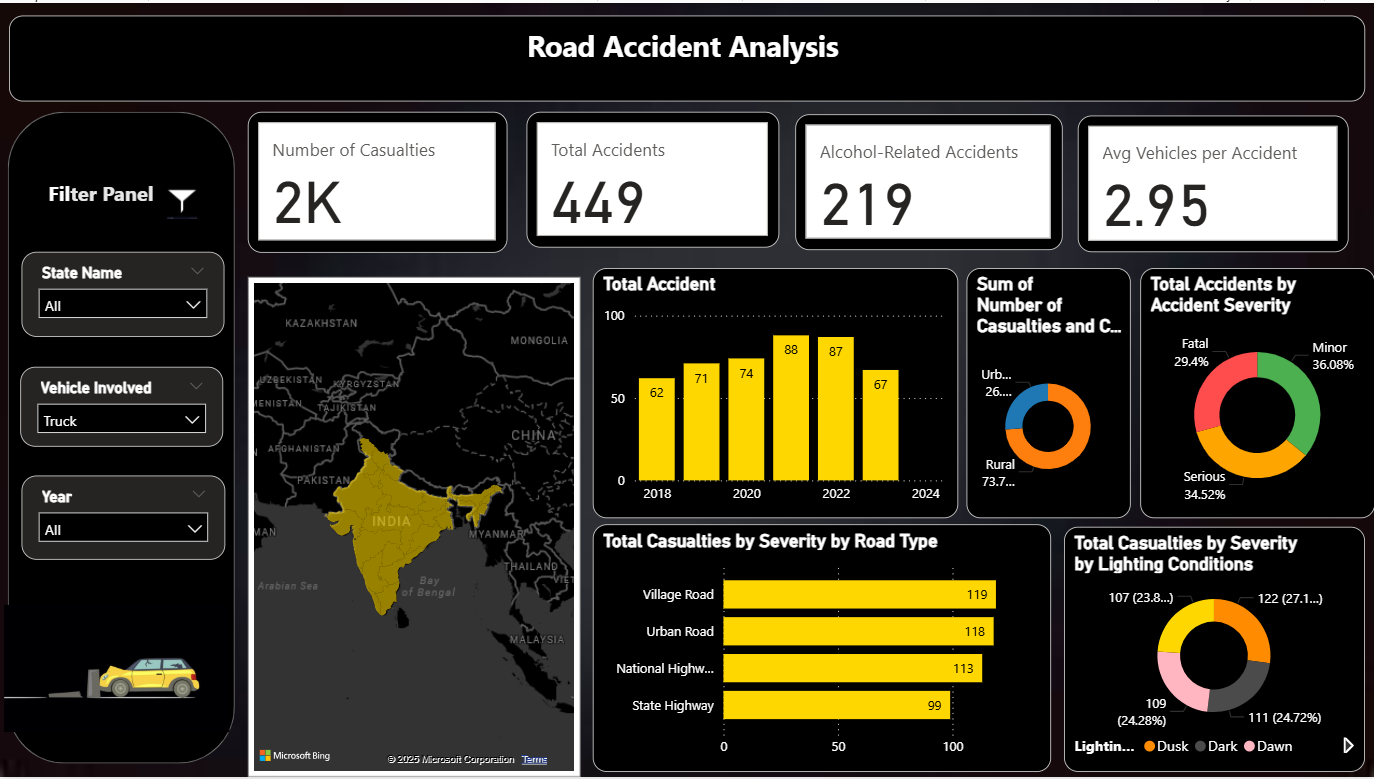

The page's visual inventory and layout, read from the dashboard file:
{"tool":"powerbi","page":{"name":"Page 1","canvas":[1280,720],"ordinal":0},"visuals":[{"type":"shape","box":[8.4,100.9,211.3,606.4],"z":0},{"type":"clusteredColumnChart","title":"Total Accident ","fields":{"Y":["CountNonNull(accident_prediction_india.Accident Severity)"],"Category":["accident_prediction_india.Year"]},"box":[552.3,246.2,339.8,232.9],"z":1000},{"type":"slicer","fields":{"Values":["accident_prediction_india.State Name"]},"box":[20.4,231.7,188.5,79.2],"z":2000},{"type":"filledMap","fields":{"Category":["accident_prediction_india.State Name"]},"box":[231.7,254.6,309.8,465.9],"z":3000},{"type":"donutChart","fields":{"Category":["accident_prediction_india.Accident Severity"],"Y":["accident_prediction_india.Total Accidents"]},"box":[1061.5,246.2,218.5,232.9],"z":4000},{"type":"textbox","box":[8.8,11.2,1261.2,80],"z":5000},{"type":"slicer","fields":{"Values":["accident_prediction_india.Year"]},"box":[20.4,439.5,189.7,78],"z":6000},{"type":"slicer","fields":{"Values":["accident_prediction_india.Vehicle Type Involved"]},"box":[19.2,338.6,188.5,74.4],"z":7000},{"type":"cardVisual","fields":{"Data":["Sum(accident_prediction_india.Number of Casualties)"]},"box":[231.7,100.9,241.4,130.9],"z":8000},{"type":"cardVisual","fields":{"Data":["accident_prediction_india.Total Accidents"]},"box":[491.1,100.9,235.3,126.1],"z":9000},{"type":"cardVisual","fields":{"Data":["accident_prediction_india.Avg Vehicles per Accident"]},"box":[1003.8,104.5,252.2,127.3],"z":10000},{"type":"cardVisual","fields":{"Data":["accident_prediction_india.Alcohol-Related Accidents"]},"box":[740.9,103.3,248.6,126.1],"z":11000},{"type":"donutChart","fields":{"Category":["accident_prediction_india.Area Type"],"Y":["Sum(accident_prediction_india.Number of Casualties)"]},"box":[900.6,246.2,152.5,232.9],"z":12000},{"type":"barChart","fields":{"Category":["accident_prediction_india.Road Type"],"Y":["accident_prediction_india.Total Casualties by Severity"]},"box":[552.3,485.1,426.3,230.5],"z":13000},{"type":"donutChart","fields":{"Category":["accident_prediction_india.Lighting Conditions"],"Y":["accident_prediction_india.Total Casualties by Severity"]},"box":[990.6,487.5,279.8,228.1],"z":14000},{"type":"textbox","box":[19.2,159.7,150.1,55.2],"z":15000},{"type":"image","box":[130.9,159.7,76.8,46.8],"z":16000},{"type":"image","box":[0,517.5,219.7,202.9],"z":17000}]}

Visuals, with their boxes in screenshot pixels (x1, y1, x2, y2), scaled from the page's 1280x720 canvas onto the 1374x779 screenshot:
shape: locate(9, 109, 236, 765)
"Total Accident " clusteredColumnChart: locate(593, 266, 958, 518)
slicer - accident_prediction_india.State Name: locate(22, 251, 224, 336)
filledMap - accident_prediction_india.State Name: locate(249, 275, 581, 778)
donutChart - accident_prediction_india.Accident Severity x accident_prediction_india.Total Accidents: locate(1139, 266, 1373, 518)
textbox: locate(9, 12, 1363, 99)
slicer - accident_prediction_india.Year: locate(22, 476, 226, 560)
slicer - accident_prediction_india.Vehicle Type Involved: locate(21, 366, 223, 447)
cardVisual - Sum(accident_prediction_india.Number of Casualties): locate(249, 109, 508, 251)
cardVisual - accident_prediction_india.Total Accidents: locate(527, 109, 780, 246)
cardVisual - accident_prediction_india.Avg Vehicles per Accident: locate(1078, 113, 1348, 251)
cardVisual - accident_prediction_india.Alcohol-Related Accidents: locate(795, 112, 1062, 248)
donutChart - accident_prediction_india.Area Type x Sum(accident_prediction_india.Number of Casualties): locate(967, 266, 1130, 518)
barChart - accident_prediction_india.Road Type x accident_prediction_india.Total Casualties by Severity: locate(593, 525, 1050, 774)
donutChart - accident_prediction_india.Lighting Conditions x accident_prediction_india.Total Casualties by Severity: locate(1063, 527, 1364, 774)
textbox: locate(21, 173, 182, 233)
image: locate(141, 173, 223, 223)
image: locate(0, 560, 236, 778)
